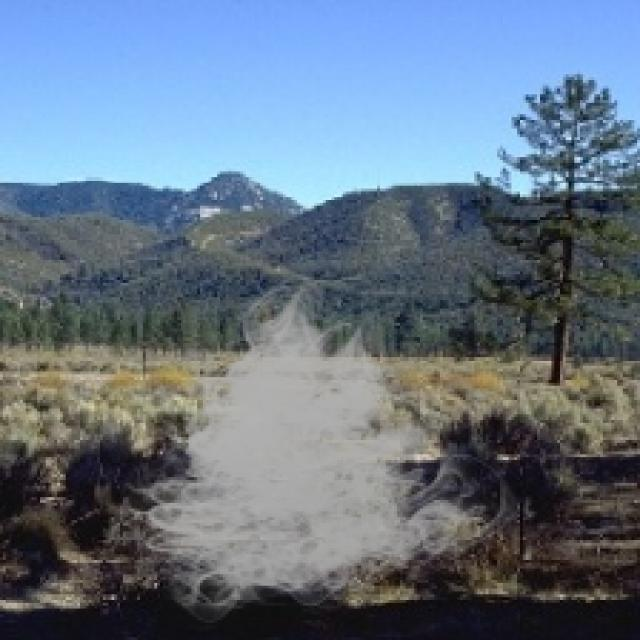Smoke: (108, 274, 523, 632)
